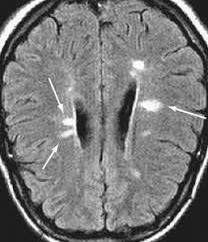Normal_Brain: (4, 4, 208, 242)
